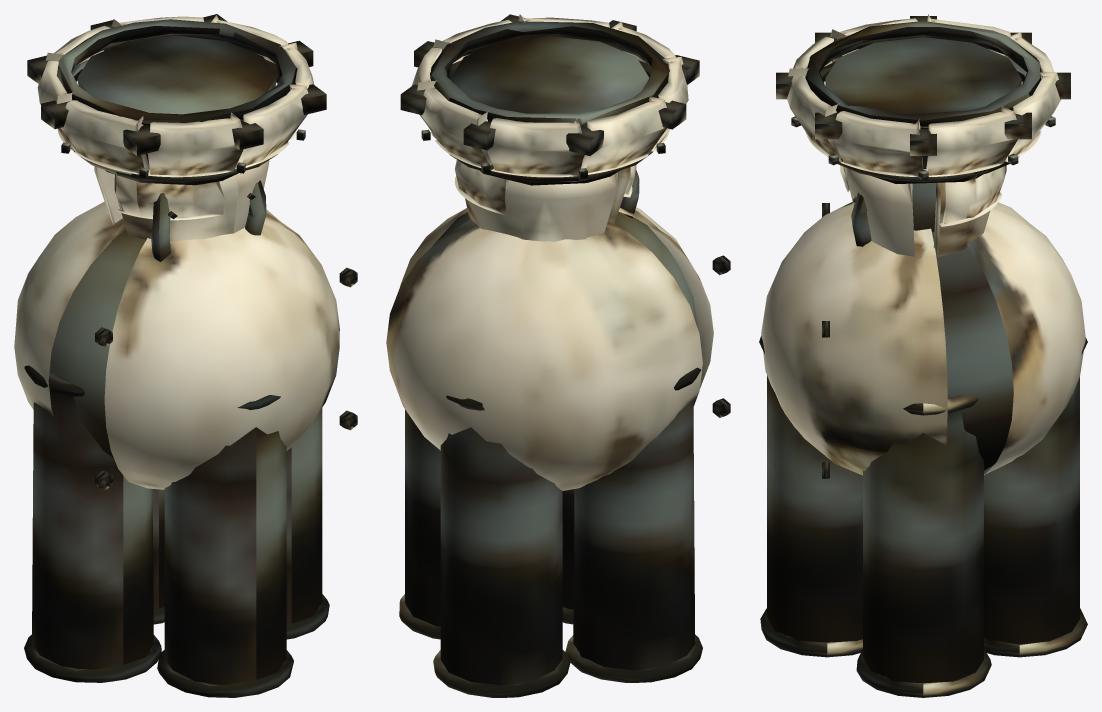
File: arm-rocket-icon-v1.glb
3 views of the same model, side by side, from view 1: azimuth 30°, elevation 25°; view 2: azimuth 150°, elevation 25°; view 3: azimuth 270°, elevation 25° (orthographic).
Parts seen in each view (by area): view 1: arm-rocket-icon-v1-steel, arm-rocket-icon-v1-ceramic, arm-rocket-icon-v1-brass; view 2: arm-rocket-icon-v1-ceramic, arm-rocket-icon-v1-steel, arm-rocket-icon-v1-brass; view 3: arm-rocket-icon-v1-steel, arm-rocket-icon-v1-ceramic, arm-rocket-icon-v1-brass.
Boxes of the visible parts, <box> form: arm-rocket-icon-v1-steel: <box>32,19,322,684</box>; arm-rocket-icon-v1-ceramic: <box>14,15,339,489</box>; arm-rocket-icon-v1-brass: <box>24,14,357,697</box>; arm-rocket-icon-v1-ceramic: <box>386,14,713,490</box>; arm-rocket-icon-v1-steel: <box>405,21,697,685</box>; arm-rocket-icon-v1-brass: <box>399,14,730,697</box>; arm-rocket-icon-v1-steel: <box>767,21,1079,683</box>; arm-rocket-icon-v1-ceramic: <box>761,14,1085,475</box>; arm-rocket-icon-v1-brass: <box>759,16,1087,697</box>.
Bounding box in the file's own units: 0.496 × 0.9338 × 0.496.
Materials: 1 (1 with a texture image).
